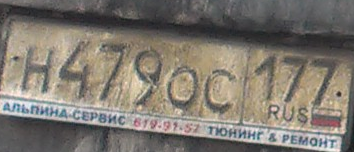character: (94, 38, 130, 109), (56, 36, 93, 100), (17, 44, 58, 98), (131, 45, 164, 110), (201, 65, 239, 118), (166, 63, 200, 116), (309, 53, 340, 108), (280, 52, 308, 107), (251, 51, 279, 102)
